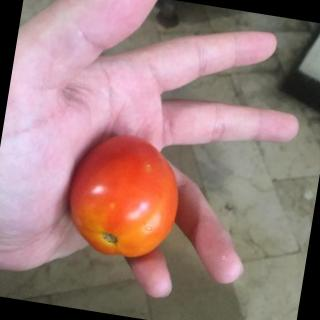Tomat: (54, 120, 193, 277)
